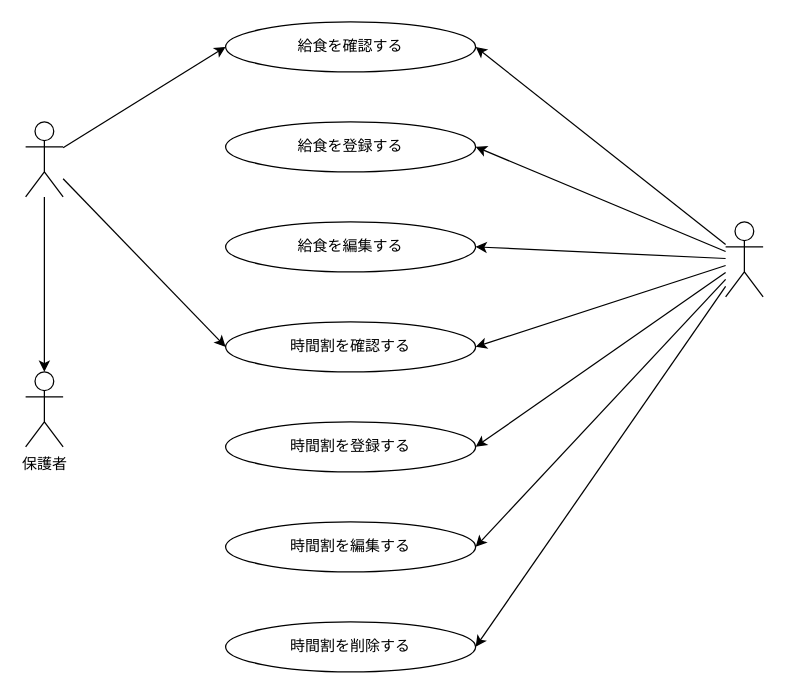
Image size: 785x694. Some labels were removed from this diagram. The shapes that lost their labels are listed below. From the top down, each one's box as (x1, y1, x2, y2) in pixels, then its label:
(24, 121, 63, 197): 生徒
(724, 221, 763, 297): 先生
